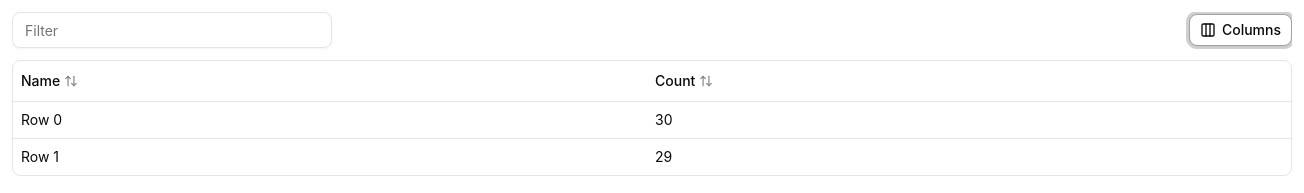
Test: DataTable › lets the user hide a column
Press Enter
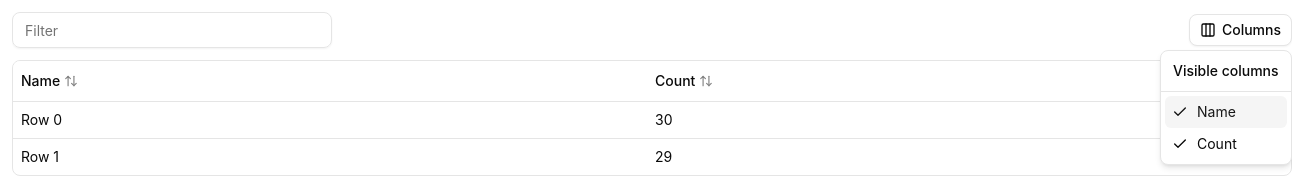
Click the menu item "Count".
click(1204, 144)  # box left=1172, top=135, right=1237, bottom=152
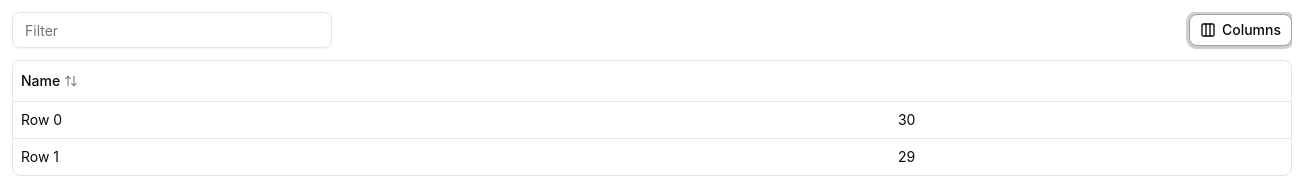
Check: the button "Count" is gone
